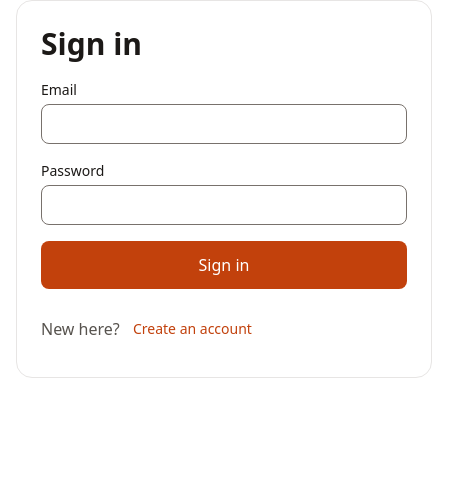
SignInForm › AC19 shows the locked warning and disables submit on 429
Type "asha@example.com" into the field labelled "Email" at (224, 124), box [41, 104, 407, 144]
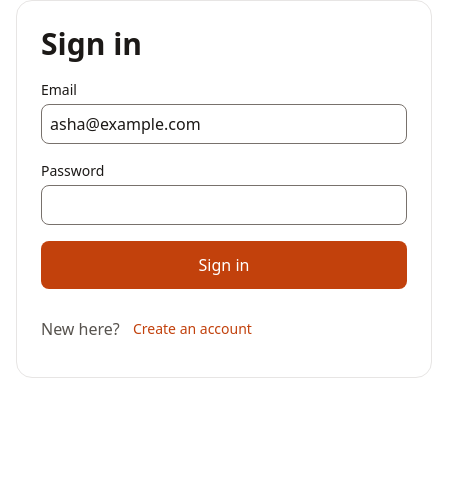
Type "whatever-1" into the password field labelled "Password" at (224, 204), box [41, 184, 407, 224]
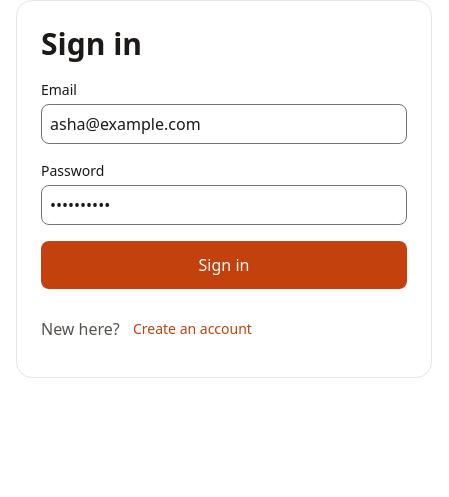
Click the button "Sign in" at (224, 264), box [41, 240, 407, 288]
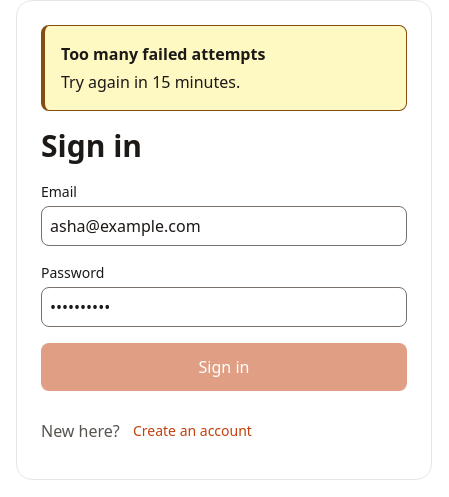
Expected: the text "Too many failed attempts" is shown, [61, 43, 265, 65]
Expected: the button "Sign in" is disabled, [41, 342, 407, 390]
